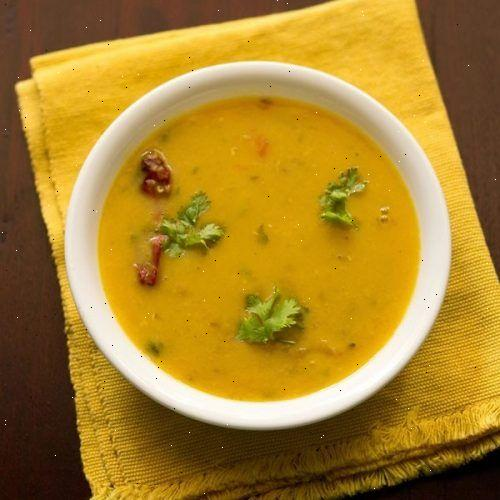daal: (83, 90, 442, 427)
